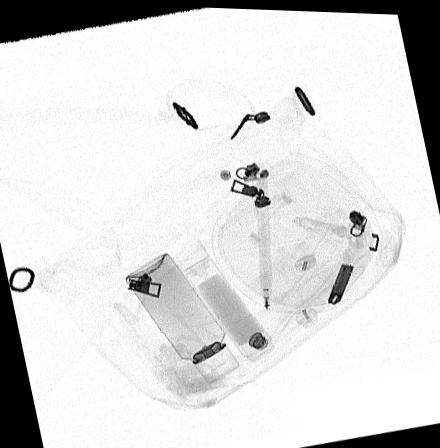Sprayer: (124, 250, 238, 381)
